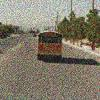buses: (37, 31, 64, 60)
